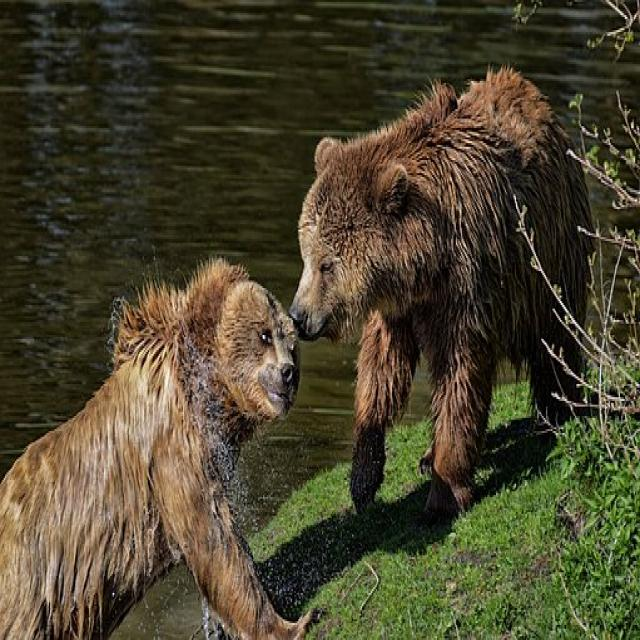Bear: (289, 68, 600, 514), (0, 264, 309, 640)
